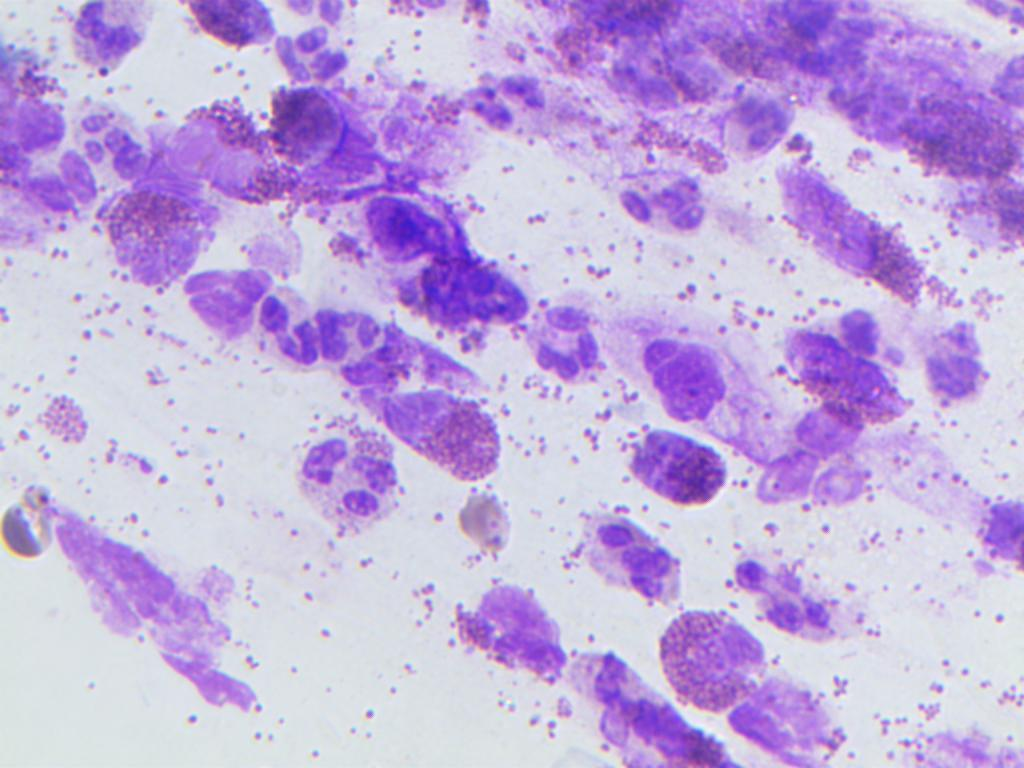artifact: (14, 482, 268, 713), (363, 178, 538, 328), (3, 493, 62, 570), (457, 491, 517, 557)
eosinophil: (581, 644, 733, 767), (787, 172, 947, 288), (437, 570, 583, 686), (876, 72, 1020, 178), (652, 600, 777, 722), (167, 92, 288, 204), (378, 382, 515, 478), (777, 334, 911, 422), (98, 191, 211, 282)
epithelial: (606, 306, 744, 425), (173, 248, 274, 352), (612, 421, 722, 513)
goblet_cell: (941, 142, 1024, 272)
neutrophil: (753, 389, 876, 514), (783, 270, 911, 370), (270, 432, 404, 526), (515, 282, 611, 400), (567, 504, 686, 598), (767, 6, 891, 94), (937, 470, 1024, 584), (441, 70, 573, 144), (741, 552, 845, 642), (0, 48, 76, 168), (65, 92, 152, 196), (60, 4, 159, 90), (923, 314, 991, 432), (14, 147, 102, 233), (723, 78, 795, 176), (265, 22, 357, 94), (623, 172, 706, 238), (261, 286, 318, 380), (331, 300, 391, 382)
